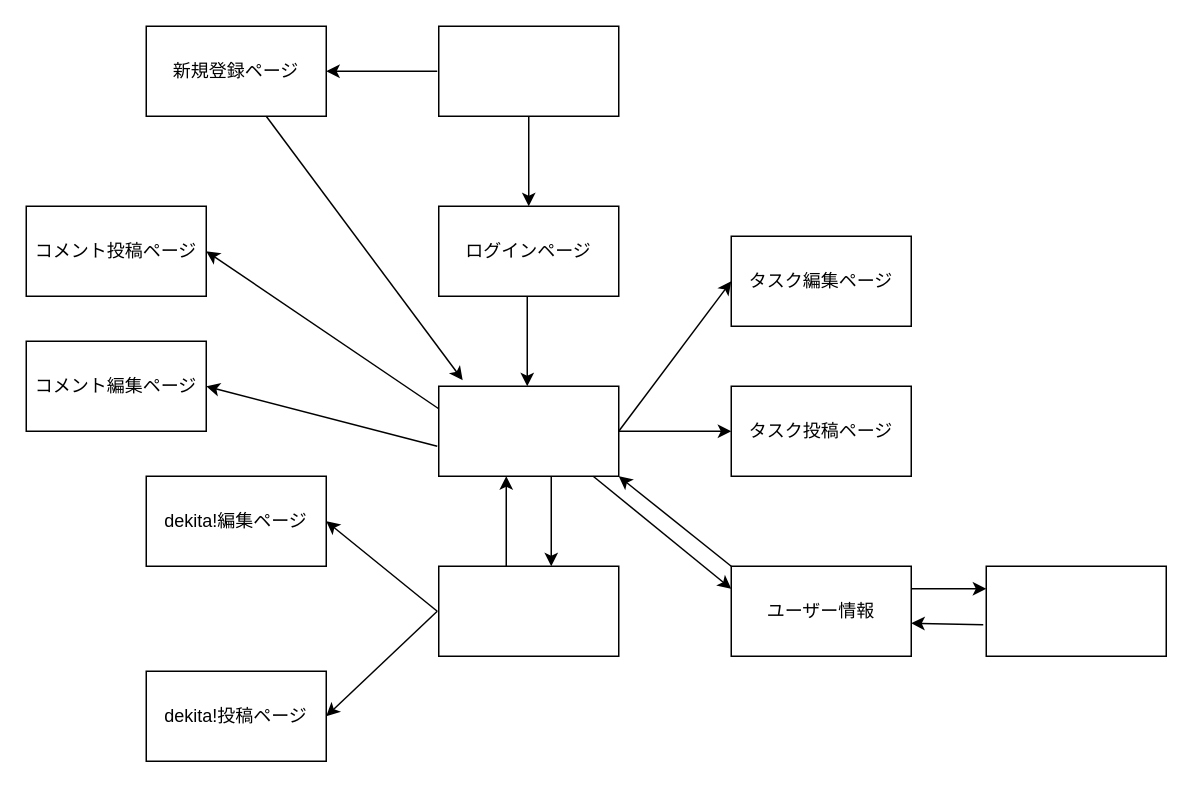
Image size: 1193x788. Some labels were removed from this diagram. Each missing label, with the box of its shape:
dekita!一覧: (437, 565, 619, 656)
タスク一覧: (437, 385, 619, 476)
トップページ: (437, 25, 619, 116)
ユーザー情報編集: (985, 565, 1166, 656)
